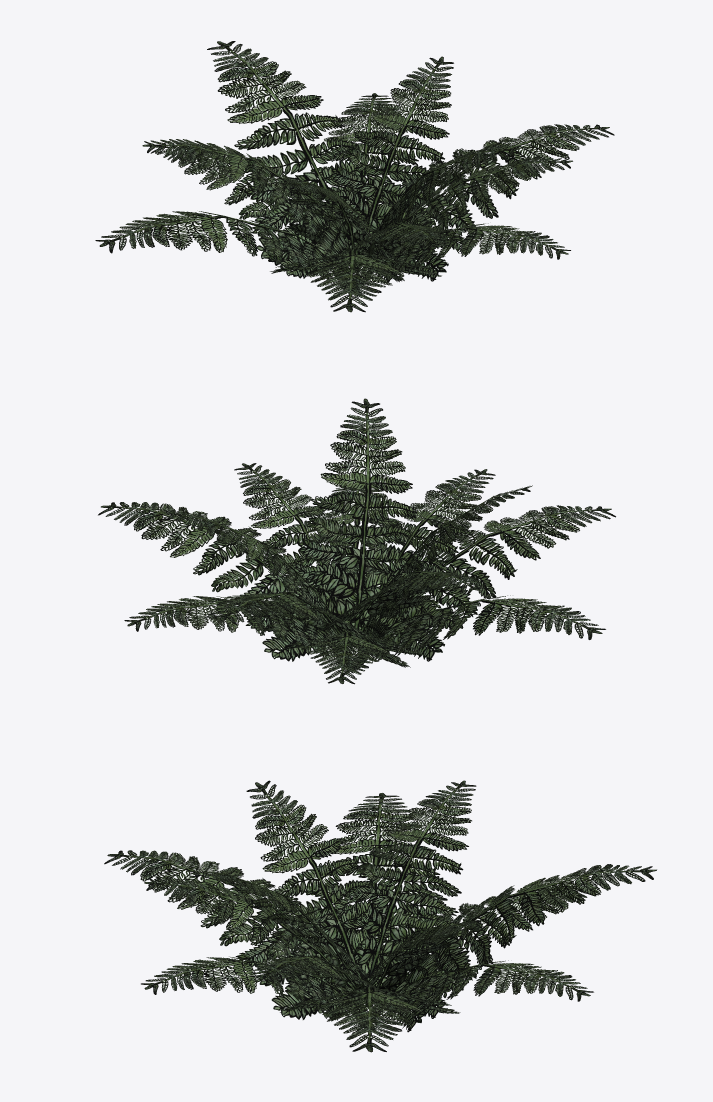
The model's file is FernPlant_001.fbx.
3 views of the same model, one above another, from view 1: azimuth 30°, elevation 25°; view 2: azimuth 150°, elevation 25°; view 3: azimuth 270°, elevation 25° (orthographic). The views are drawn at different scales.
Parts seen in each view (by area): view 1: Fern_Plant14; view 2: Fern_Plant14; view 3: Fern_Plant14.
Boxes of the visible parts, box(x1,y1,x2,y2) form: Fern_Plant14: box(95, 41, 614, 312); Fern_Plant14: box(98, 398, 615, 684); Fern_Plant14: box(104, 780, 656, 1052).
Bounding box in the file's own units: 0.0696 × 0.0244 × 0.0693.
